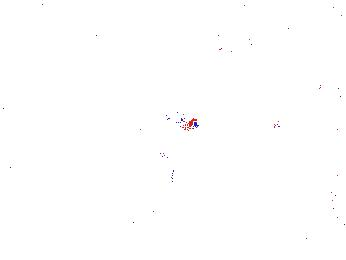glassfish: (129, 125, 180, 192), (121, 201, 175, 229)
red belly glassfish: (237, 115, 283, 135), (164, 110, 200, 133)
